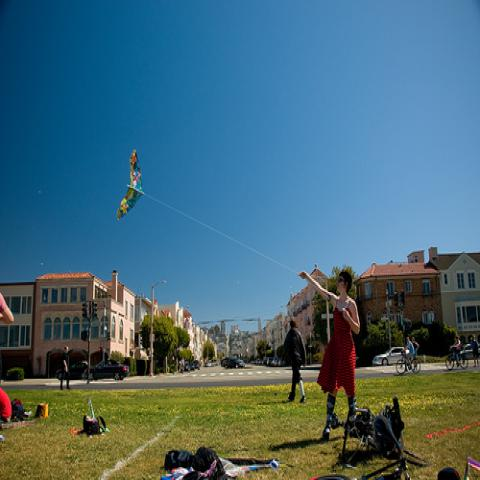car: (84, 359, 130, 381), (56, 360, 89, 380), (373, 345, 404, 365), (224, 358, 244, 368), (184, 361, 190, 371)
